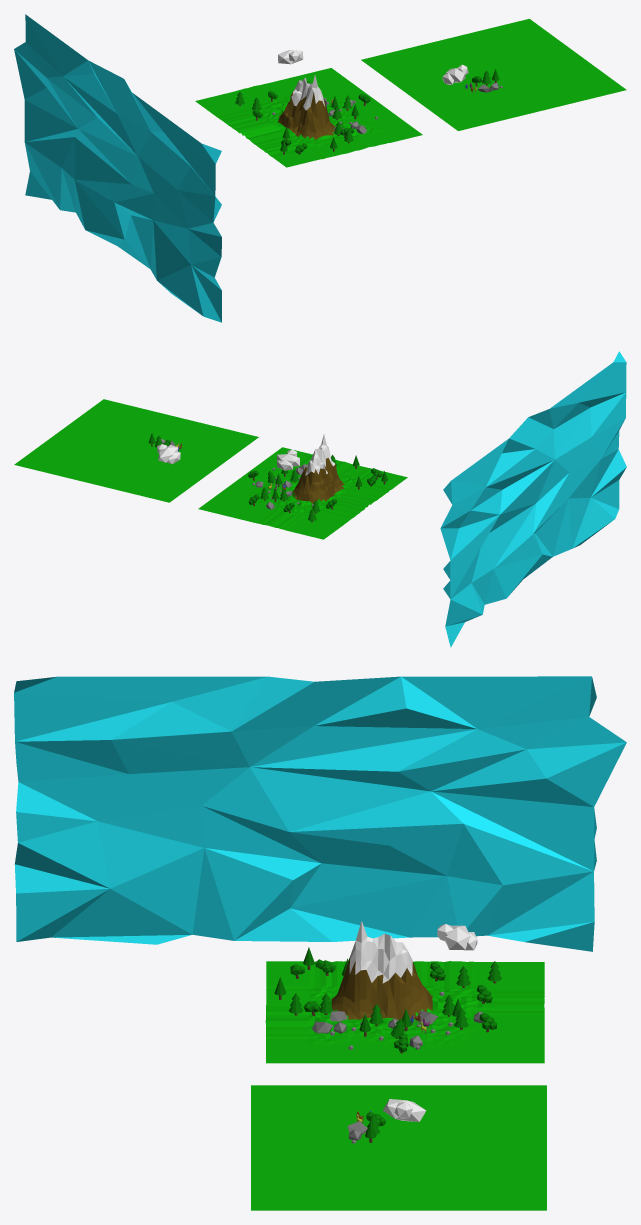
Rendered from uploads_files_3951934_На+продажу+фбх.fbx.
3 views of the same model, one above another, from view 1: azimuth 30°, elevation 25°; view 2: azimuth 150°, elevation 25°; view 3: azimuth 270°, elevation 25° (orthographic). The views are drawn at different scales.
Parts seen in each view (by area): view 1: Plane.002, Plane.001, Plane; view 2: Plane.002, Plane.001, Plane; view 3: Plane.002, Plane.001, Plane, Icosphere.025, Icosphere.023.
Boxes of the visible parts, x1,y1,x2,y2 form: Plane.002: (14, 14, 221, 322); Plane.001: (361, 18, 626, 130); Plane: (195, 68, 422, 167); Plane.002: (440, 351, 626, 647); Plane.001: (14, 399, 258, 502); Plane: (198, 434, 407, 539); Plane.002: (14, 676, 626, 951); Plane.001: (251, 1085, 546, 1210); Plane: (265, 921, 544, 1063); Icosphere.025: (437, 924, 477, 950); Icosphere.023: (382, 1099, 426, 1121).
Bounding box in the file's own units: 9757 × 3456 × 6961.
